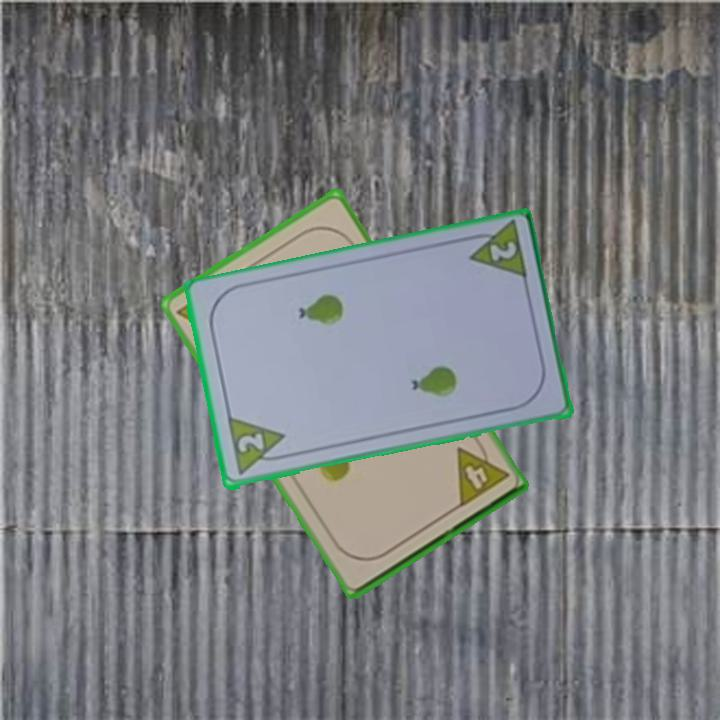2p: (460, 219, 530, 284), (223, 415, 292, 479)
4p: (452, 434, 512, 511)
